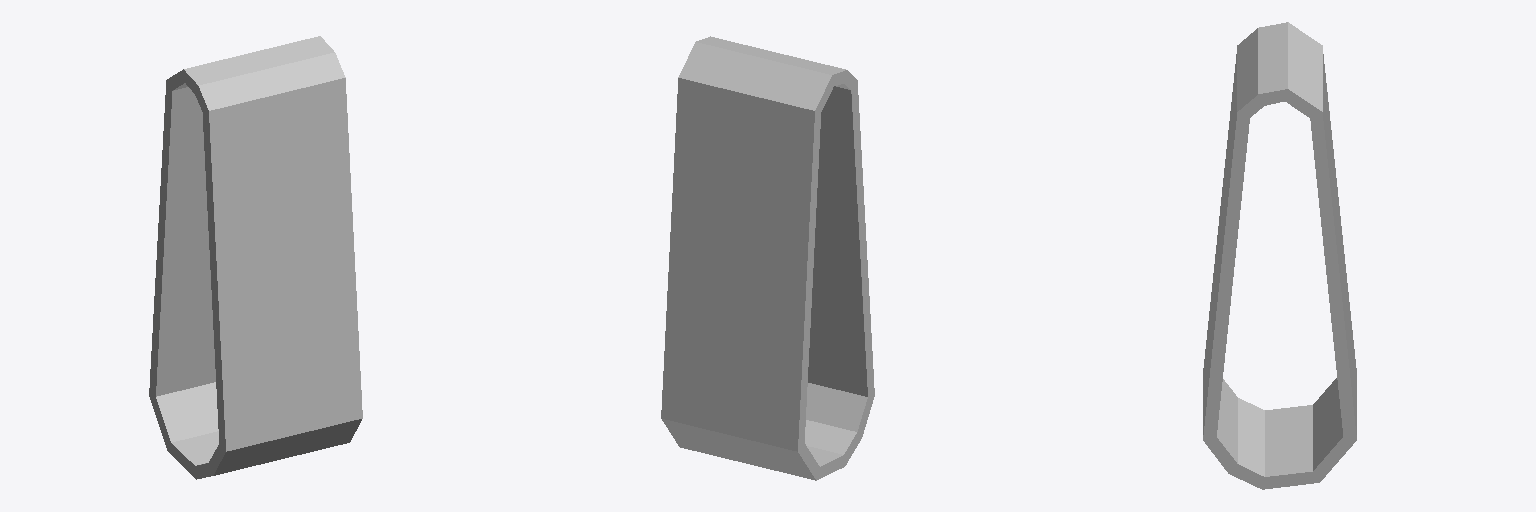
Rendered from track_collision.obj.
3 renders of one model, left to right at view 1: azimuth 30°, elevation 25°; view 2: azimuth 150°, elevation 25°; view 3: azimuth 270°, elevation 25°, orthographic.
Parts seen in each view (by area): view 1: Cylinder.001; view 2: Cylinder.001; view 3: Cylinder.001.
Part boxes in pixels (bbox=[...]): Cylinder.001: bbox=[149, 36, 362, 479]; Cylinder.001: bbox=[661, 36, 874, 480]; Cylinder.001: bbox=[1203, 22, 1356, 489].
Size of the model in its own units: 1 by 2.8 by 0.9756.